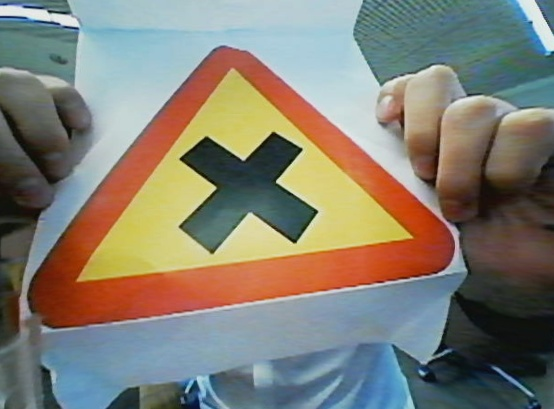junction: (24, 57, 473, 313)
